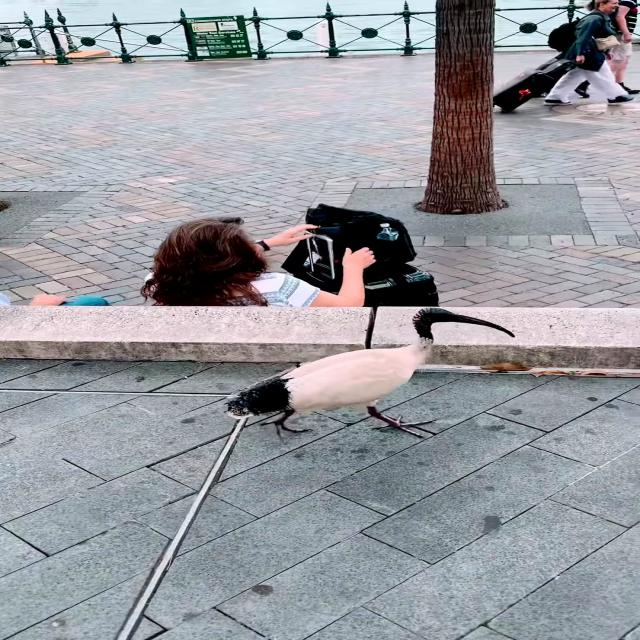Birds-Ibis: (219, 302, 517, 442)
